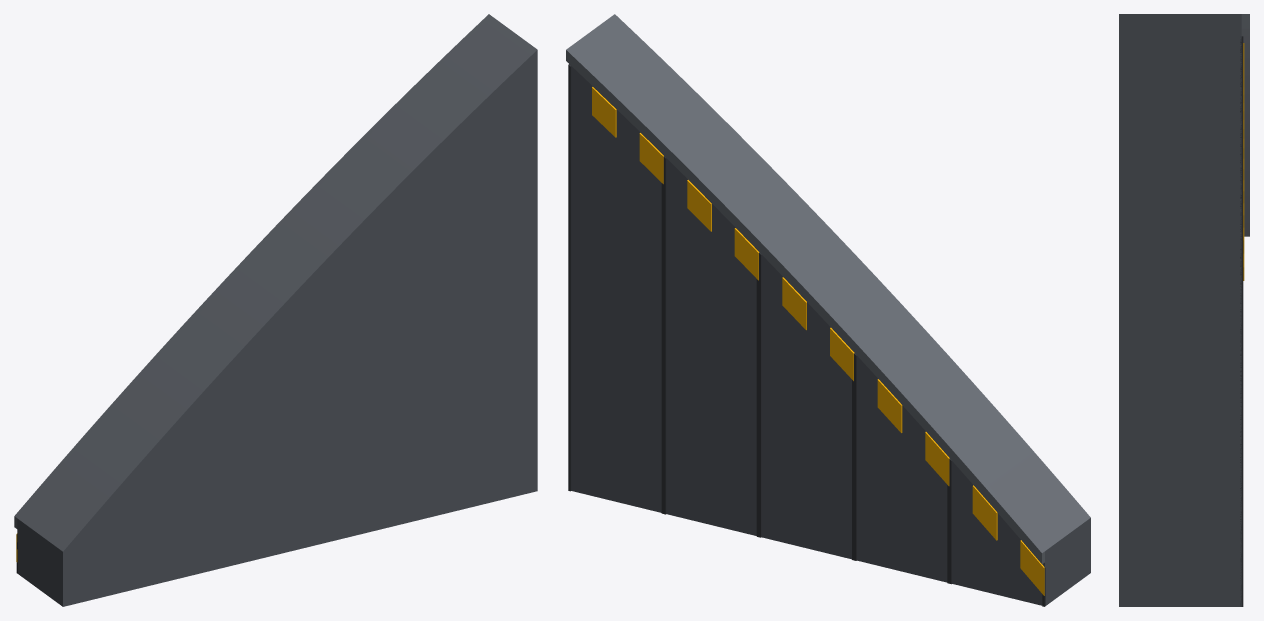
3 views of the same model, side by side, from view 1: azimuth 30°, elevation 25°; view 2: azimuth 150°, elevation 25°; view 3: azimuth 270°, elevation 25° (orthographic). The views are drawn at different scales.
Parts seen in each view (by area): view 1: e34w; view 2: e34w; view 3: e34w.
Boxes of the visible parts, <box> form: e34w: <box>14,14,537,606</box>; e34w: <box>566,14,1090,606</box>; e34w: <box>1119,14,1249,606</box>.
Bounding box in the file's own units: 9 × 8 × 1.6.
